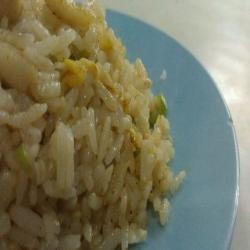rice: (2, 4, 161, 250)
